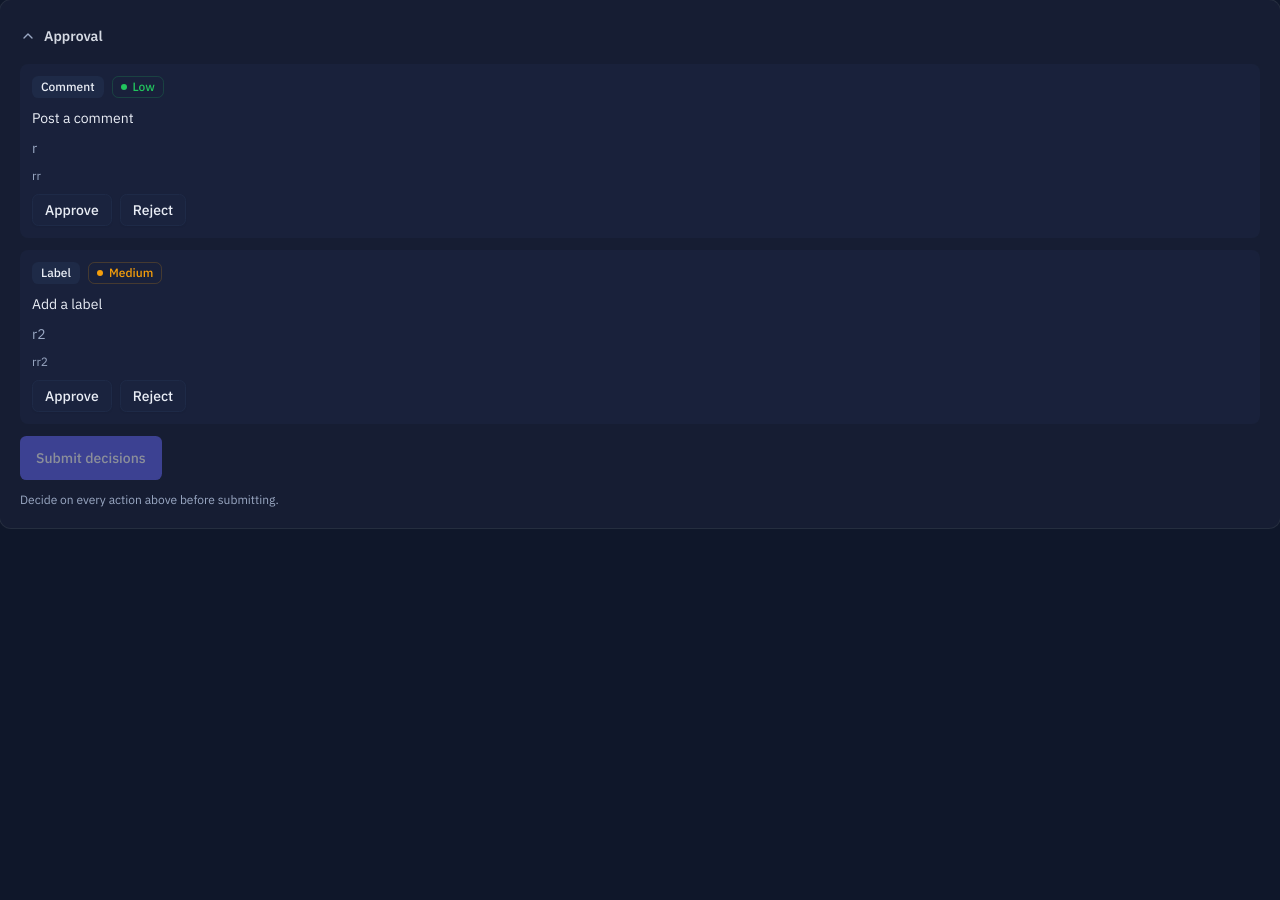
Test: ApprovalPanel › shows a note field only for an action that has been decided
The image size is (1280, 900).
Expected: the button "Submit decisions" is shown, x1=20 y1=436 x2=162 y2=480
Expected: the field labelled "note" is not shown
What coordinates should you click on to do the following:
click the button "Approve" below "Post a comment"
I would click on:
 (72, 210)
Its box is x1=32 y1=194 x2=112 y2=226.
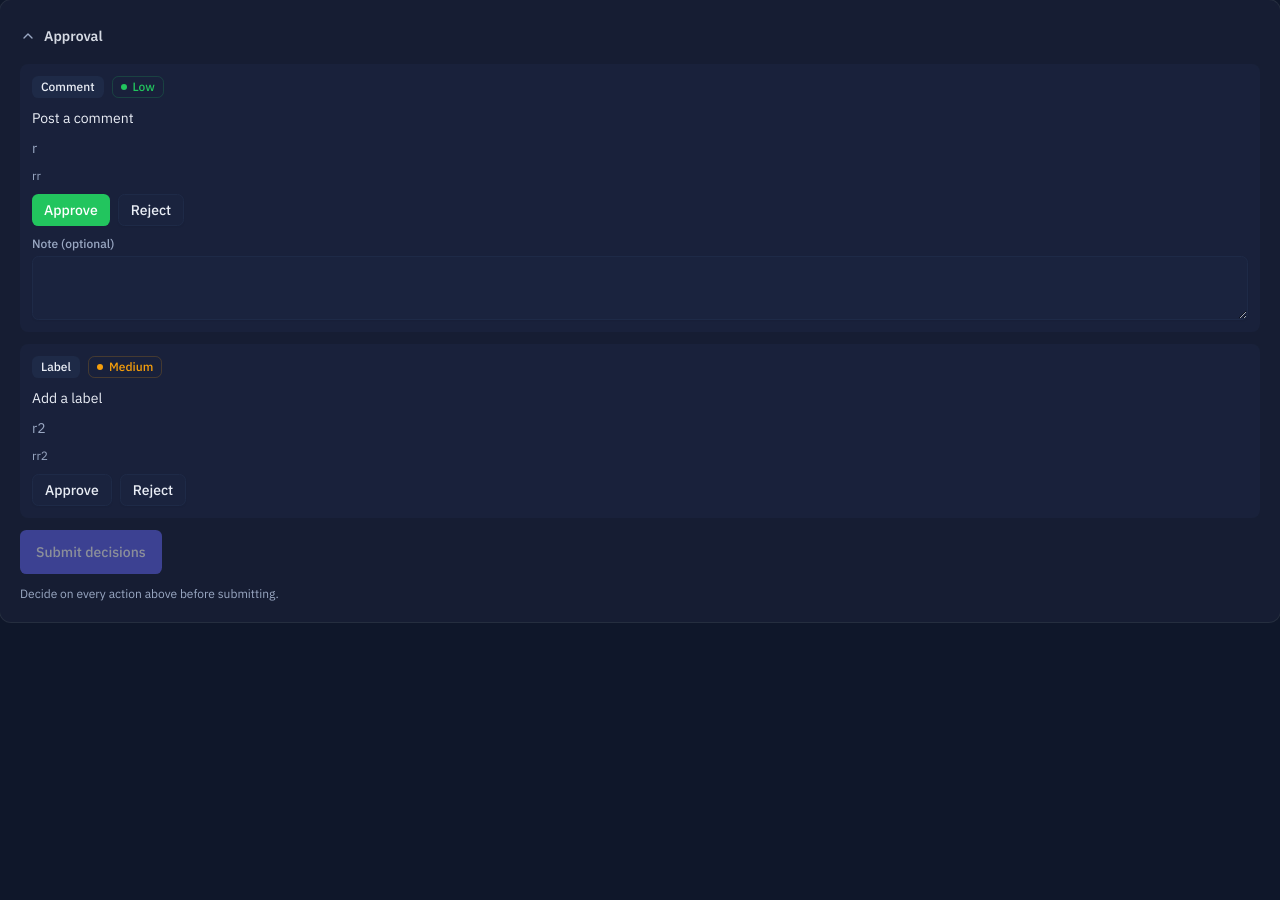
Result: the number of text boxes labelled "Note (optional)" is 1 at x1=32 y1=256 x2=1248 y2=320
